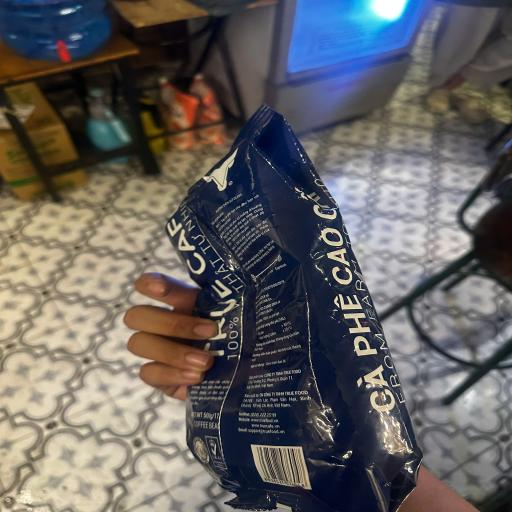cafe_hat: (167, 94, 434, 512)
